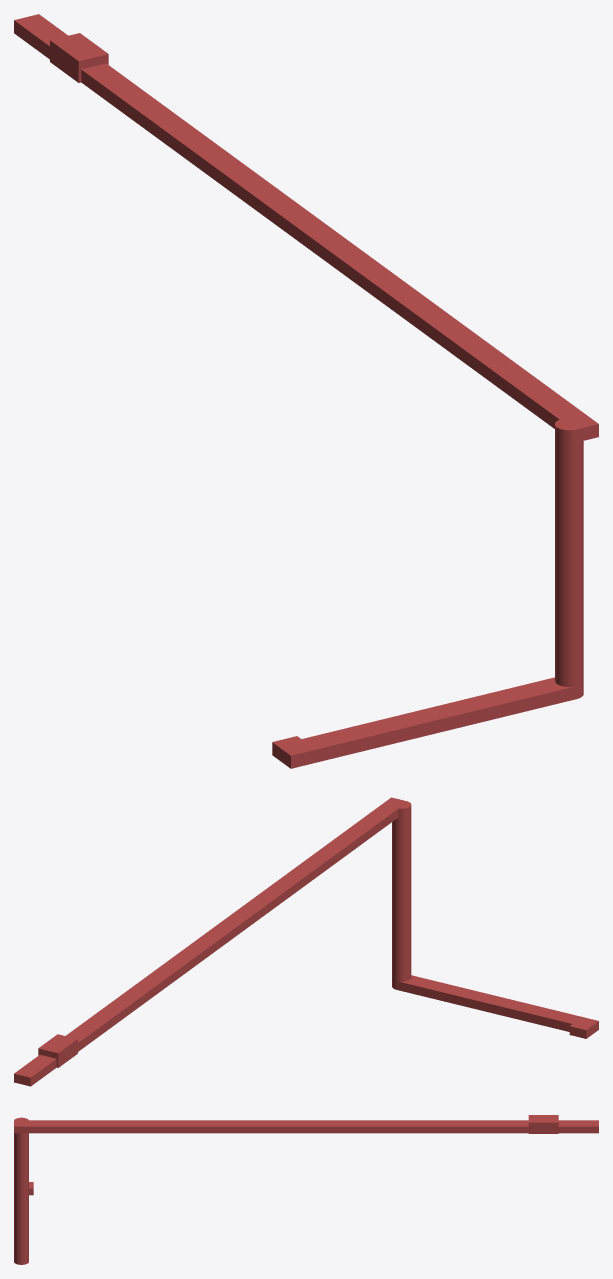
File: Dock_Lead_Power_v3_4d.glb
The picture shows the model from 3 angles, top to bottom: view 1: azimuth 30°, elevation 25°; view 2: azimuth 150°, elevation 25°; view 3: azimuth 270°, elevation 25°; orthographic projection. The views are drawn at different scales.
Visible parts, largest first — view 1: Dock_Lead_Power_v3_4d; view 2: Dock_Lead_Power_v3_4d; view 3: Dock_Lead_Power_v3_4d.
Part boxes in pixels (box(x1,y1,x2,y2)): Dock_Lead_Power_v3_4d: box(14, 14, 598, 768); Dock_Lead_Power_v3_4d: box(14, 797, 598, 1086); Dock_Lead_Power_v3_4d: box(14, 1115, 598, 1264).
Size of the model in its own units: 37.3 by 31.95 by 117.
